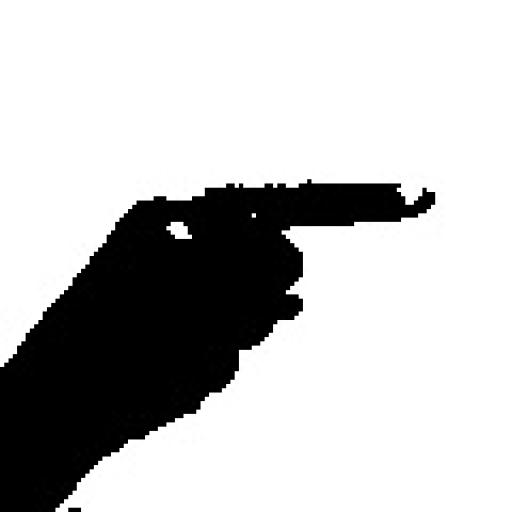index_right: (0, 175, 435, 392)
